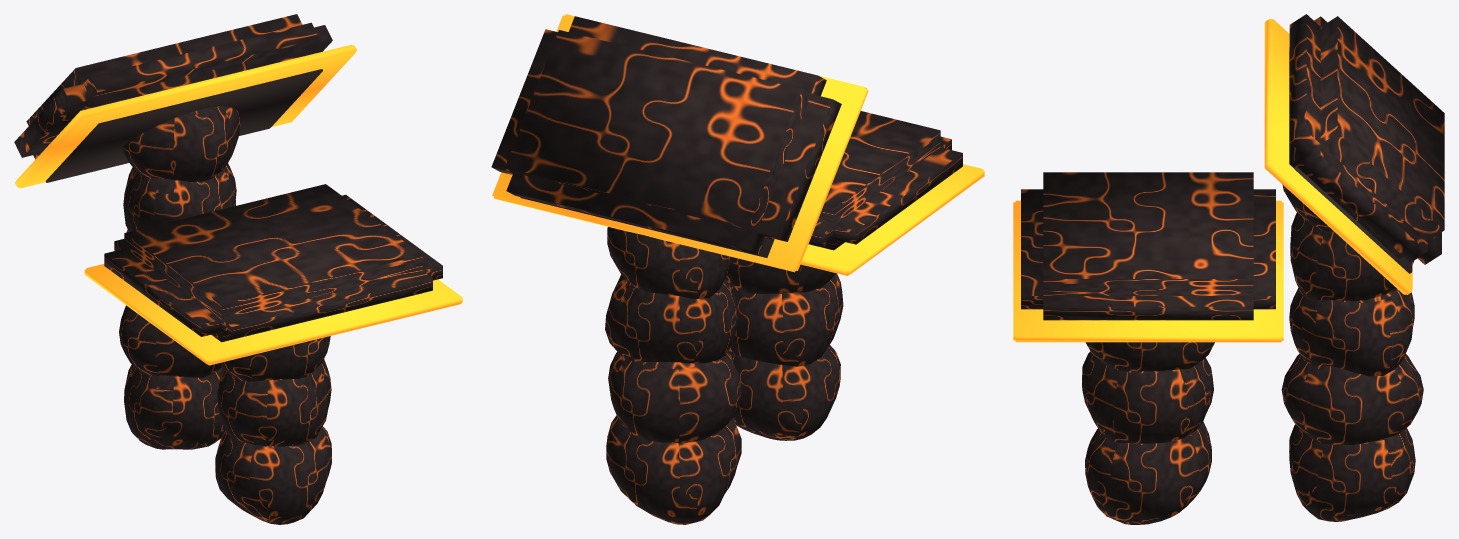
File: LavaBench.glb
3 views of the same model, side by side, from view 1: azimuth 30°, elevation 25°; view 2: azimuth 150°, elevation 25°; view 3: azimuth 270°, elevation 25° (orthographic). The views are drawn at different scales.
Visible parts, largest first — view 1: LavaBench, LavaBench_Glow; view 2: LavaBench, LavaBench_Glow; view 3: LavaBench, LavaBench_Glow.
Boxes of the visible parts, <box> form: LavaBench: <box>14,14,442,524</box>; LavaBench_Glow: <box>15,44,462,365</box>; LavaBench: <box>491,16,962,524</box>; LavaBench_Glow: <box>492,14,984,275</box>; LavaBench: <box>1021,14,1444,524</box>; LavaBench_Glow: <box>1013,19,1412,342</box>.
Size of the model in its own units: 2.26 by 3.23 by 2.82.
2 materials, 1 textured.
